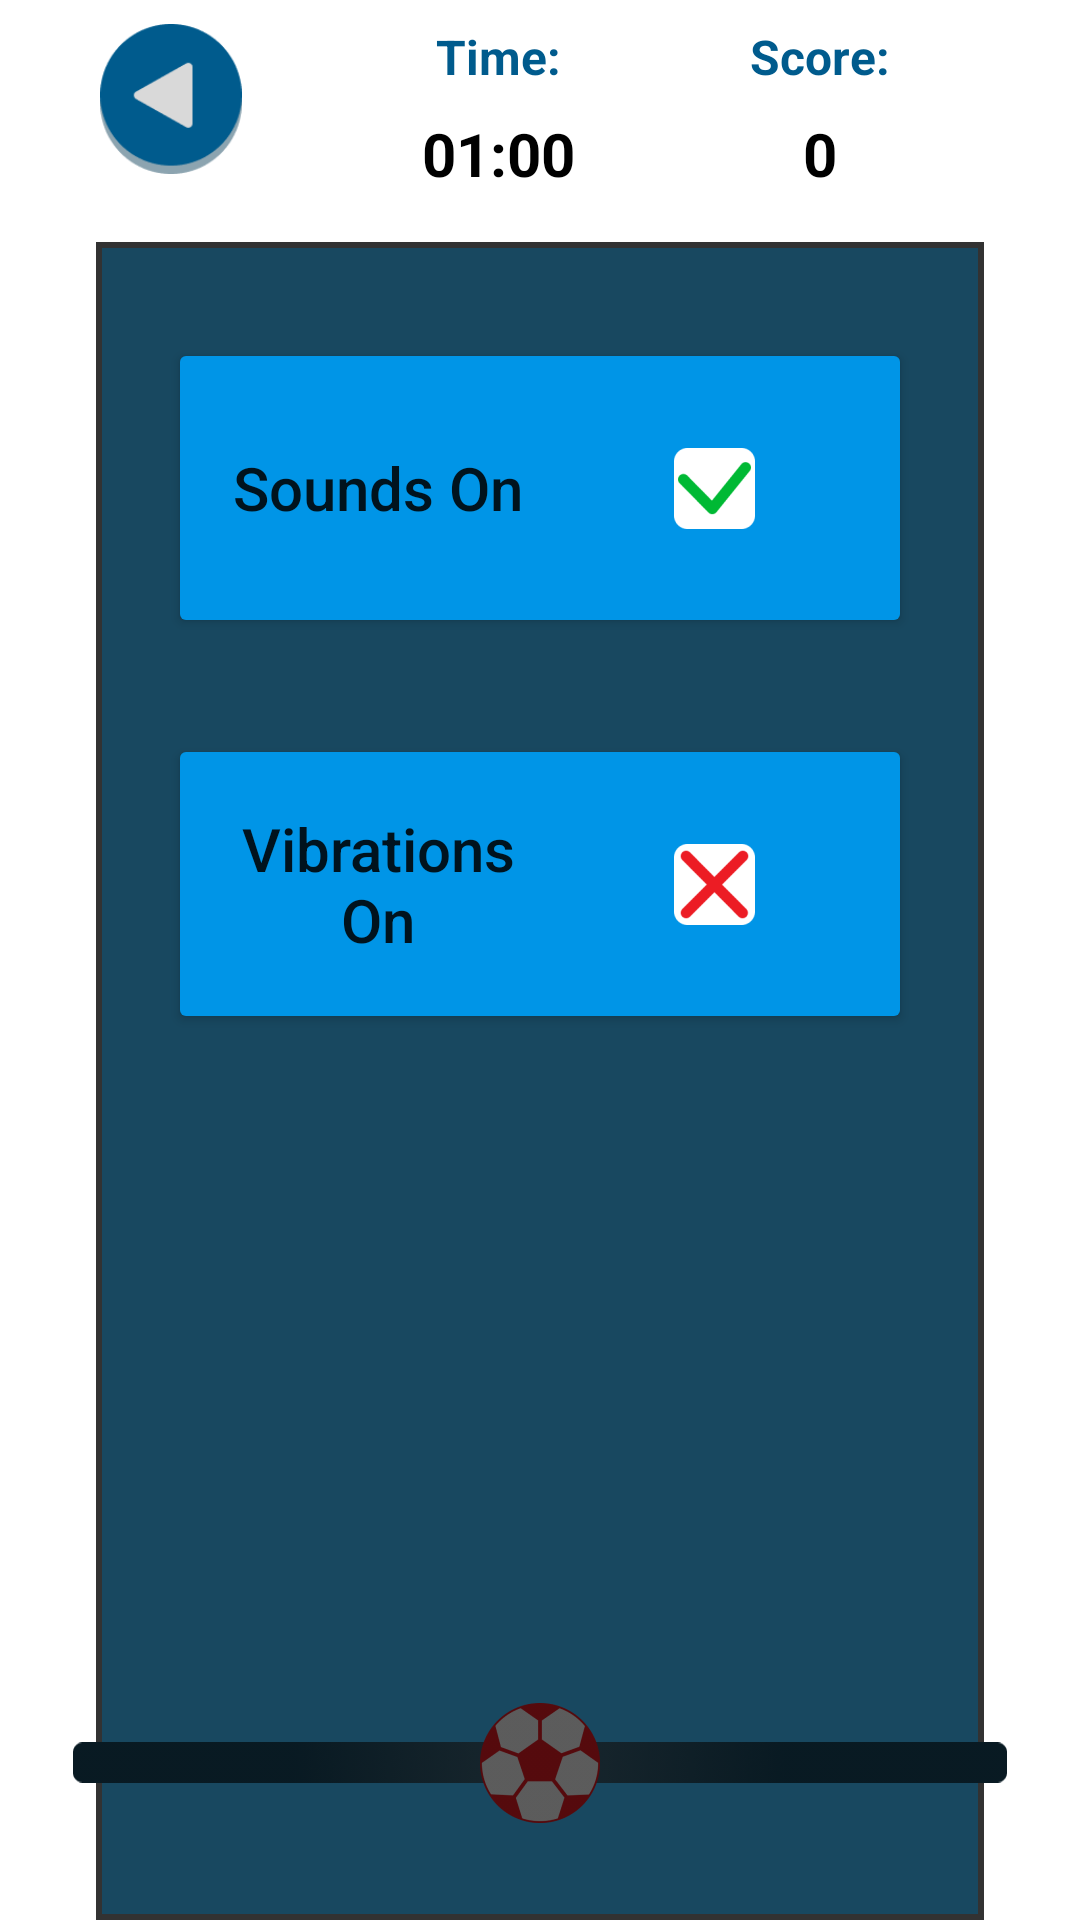

Icon click points for this 1080×1920 phone screenshot, format point (x, y):
back: point (171, 99)
